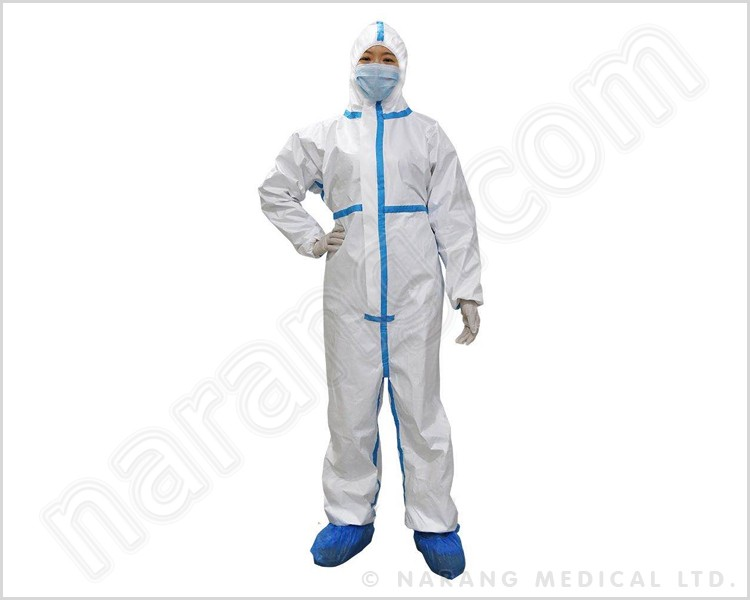Coverall: (255, 17, 488, 538)
Gloves: (449, 299, 482, 350), (312, 225, 347, 261)
with_mask: (353, 50, 401, 105)
